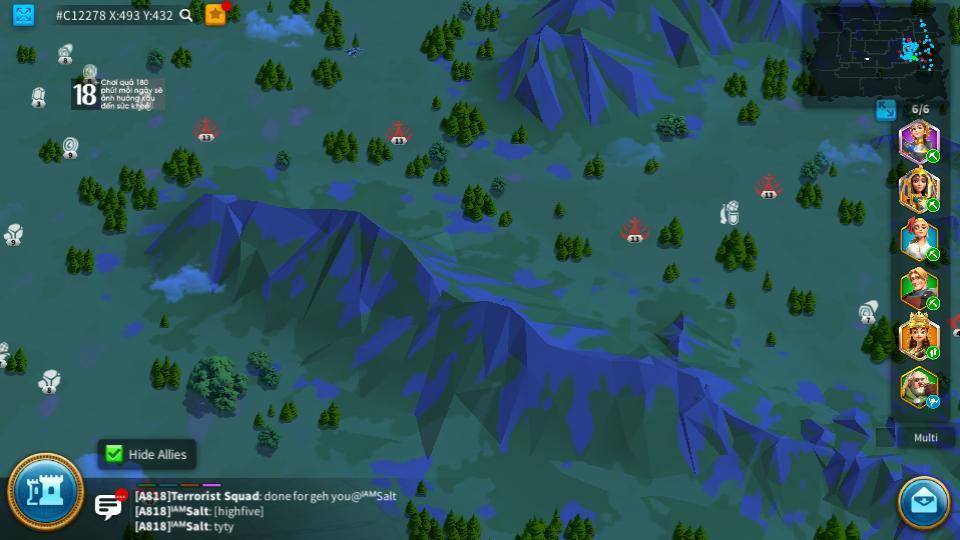gem-z-out: (27, 85, 47, 106), (81, 64, 97, 77)
march_farming: (925, 197, 941, 212)
march_idle: (925, 396, 942, 408)
march_marching: (925, 150, 942, 162), (925, 248, 942, 260), (925, 347, 941, 359), (925, 297, 942, 308)
